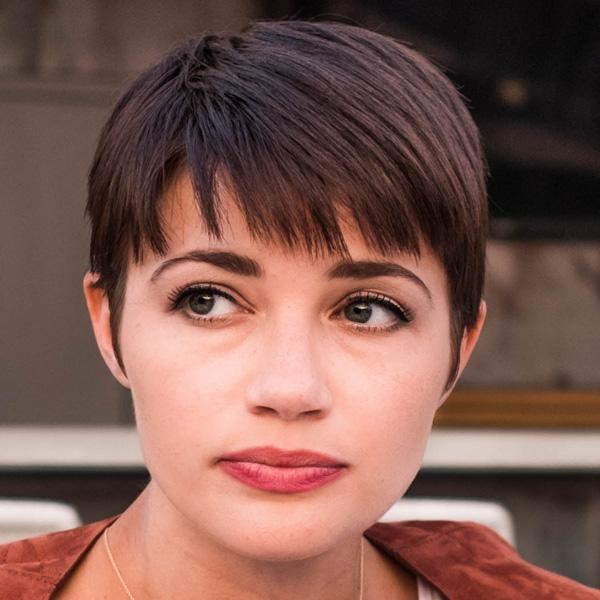Eyes: (162, 275, 261, 338), (318, 284, 417, 345)
